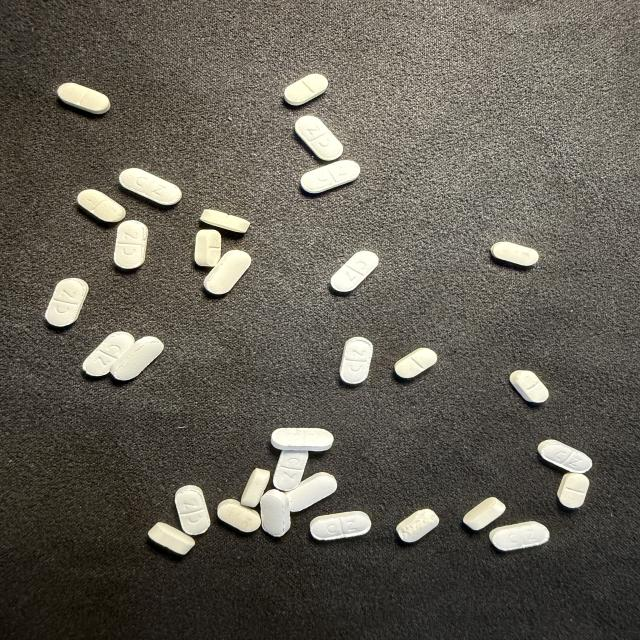pill: (119, 168, 182, 205), (110, 337, 164, 380), (83, 332, 135, 376), (204, 250, 251, 295), (295, 116, 343, 160), (45, 278, 88, 326), (331, 251, 379, 292), (301, 160, 360, 193), (287, 473, 337, 511), (538, 440, 592, 473), (310, 511, 371, 540), (175, 486, 210, 535), (490, 522, 549, 551), (114, 220, 148, 269), (58, 83, 110, 114), (340, 337, 373, 384), (78, 190, 125, 222), (148, 523, 194, 555), (217, 499, 261, 532), (271, 428, 333, 451), (463, 497, 505, 530), (397, 509, 439, 542), (284, 74, 328, 105), (274, 451, 308, 491), (261, 490, 290, 536), (395, 348, 437, 378), (510, 370, 548, 403), (491, 242, 539, 266), (200, 210, 250, 233), (241, 468, 270, 507), (558, 473, 589, 508), (194, 229, 222, 267)
